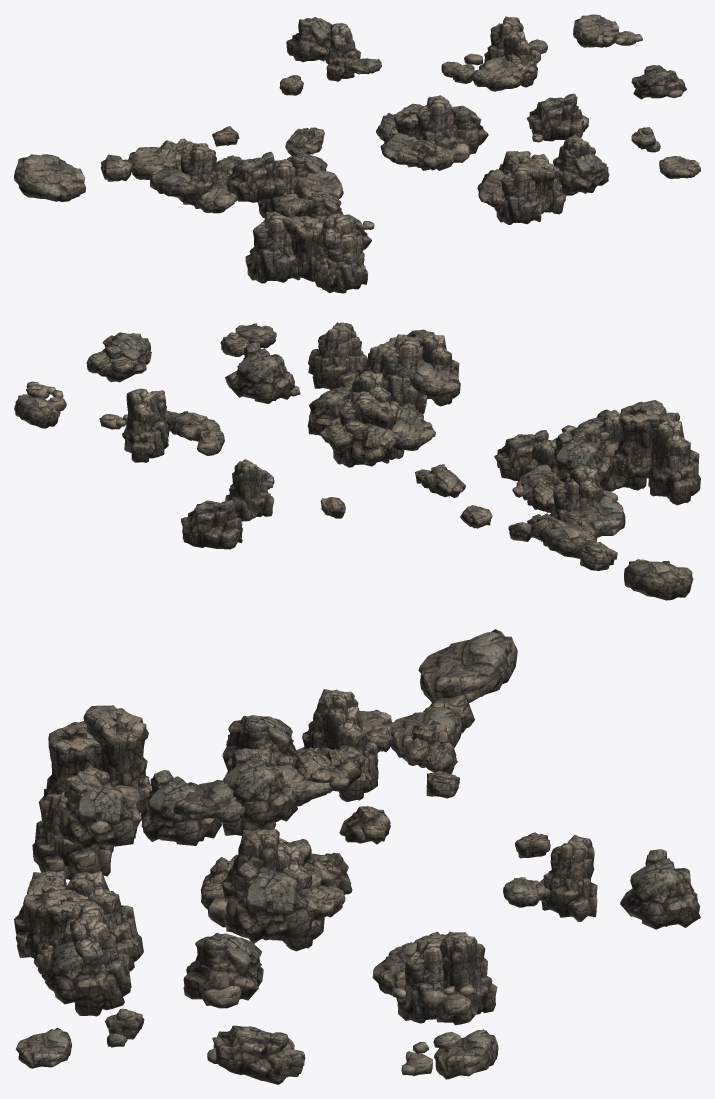
The model's file is Rocks_SandBeach.fbx.
3 renders of one model, top to bottom at view 1: azimuth 30°, elevation 25°; view 2: azimuth 150°, elevation 25°; view 3: azimuth 270°, elevation 25°, orthographic. The views are drawn at different scales.
Parts seen in each view (by area): view 1: Rock_I_01__7_, Rock_E__3__1, Rock_H_01__1__1, Rock_D_01__1__2, Rock_D_01, Rock_E, Rock_E_2, Rock_E__5_, Rock_D_01__3_, Rock_D_01__1_, Rock_E__1__2, Rock_E__6_ (+27 smaller); view 2: Rock_E__3__1, Rock_H_01_2, Rock_D_01, Rock_E__3_, Rock_D_01__3_, Rock_E_1, Rock_E__2_, Rock_I_01__7_, Rock_E__6_, Rock_D_01__1__2, Rock_D_01_1, Rock_D_01__2_ (+28 smaller); view 3: Rock_D_01__1__1, Rock_I_01__7_, Rock_D_01__3_, Rock_H_01_2, Rock_D_01__2__1, Rock_D_01, Rock_D_01_1, Rock_E__6_, Rock_D_01__4_, Rock_E__3_, Rock_E_1, Rock_D_01__2_ (+34 smaller).
Part boxes in pixels (<box>): Rock_I_01__7_: <box>14,154,85,201</box>; Rock_E__3__1: <box>245,211,300,283</box>; Rock_H_01__1__1: <box>283,215,328,282</box>; Rock_D_01__1__2: <box>226,152,284,202</box>; Rock_D_01: <box>526,93,585,141</box>; Rock_E: <box>495,163,541,224</box>; Rock_E_2: <box>415,95,460,149</box>; Rock_E__5_: <box>322,233,368,293</box>; Rock_D_01__3_: <box>286,17,331,62</box>; Rock_D_01__1_: <box>559,149,609,193</box>; Rock_E__1__2: <box>178,143,217,202</box>; Rock_E__6_: <box>324,23,360,81</box>; Rock_E__3__1: <box>647,418,700,505</box>; Rock_H_01_2: <box>610,400,666,480</box>; Rock_D_01: <box>231,342,294,403</box>; Rock_E__3_: <box>122,388,168,462</box>; Rock_D_01__3_: <box>181,500,242,549</box>; Rock_E_1: <box>312,322,360,389</box>; Rock_E__2_: <box>379,337,427,414</box>; Rock_I_01__7_: <box>624,559,693,600</box>; Rock_E__6_: <box>225,459,274,521</box>; Rock_D_01__1__2: <box>549,431,612,485</box>; Rock_D_01_1: <box>494,430,548,480</box>; Rock_D_01__2_: <box>98,332,151,382</box>; Rock_D_01__1__1: <box>224,862,317,943</box>; Rock_I_01__7_: <box>418,629,517,703</box>; Rock_D_01__3_: <box>620,849,700,929</box>; Rock_H_01_2: <box>83,705,151,813</box>; Rock_D_01__2__1: <box>58,777,141,850</box>; Rock_D_01: <box>183,933,263,1005</box>; Rock_D_01_1: <box>223,748,297,826</box>; Rock_E__6_: <box>541,834,597,921</box>; Rock_D_01__4_: <box>141,770,221,845</box>; Rock_E__3_: <box>436,931,497,1025</box>; Rock_E_1: <box>70,915,131,1016</box>; Rock_D_01__2_: <box>212,1025,289,1084</box>.
Bounding box in the file's own units: 10266 × 1737 × 6632.
